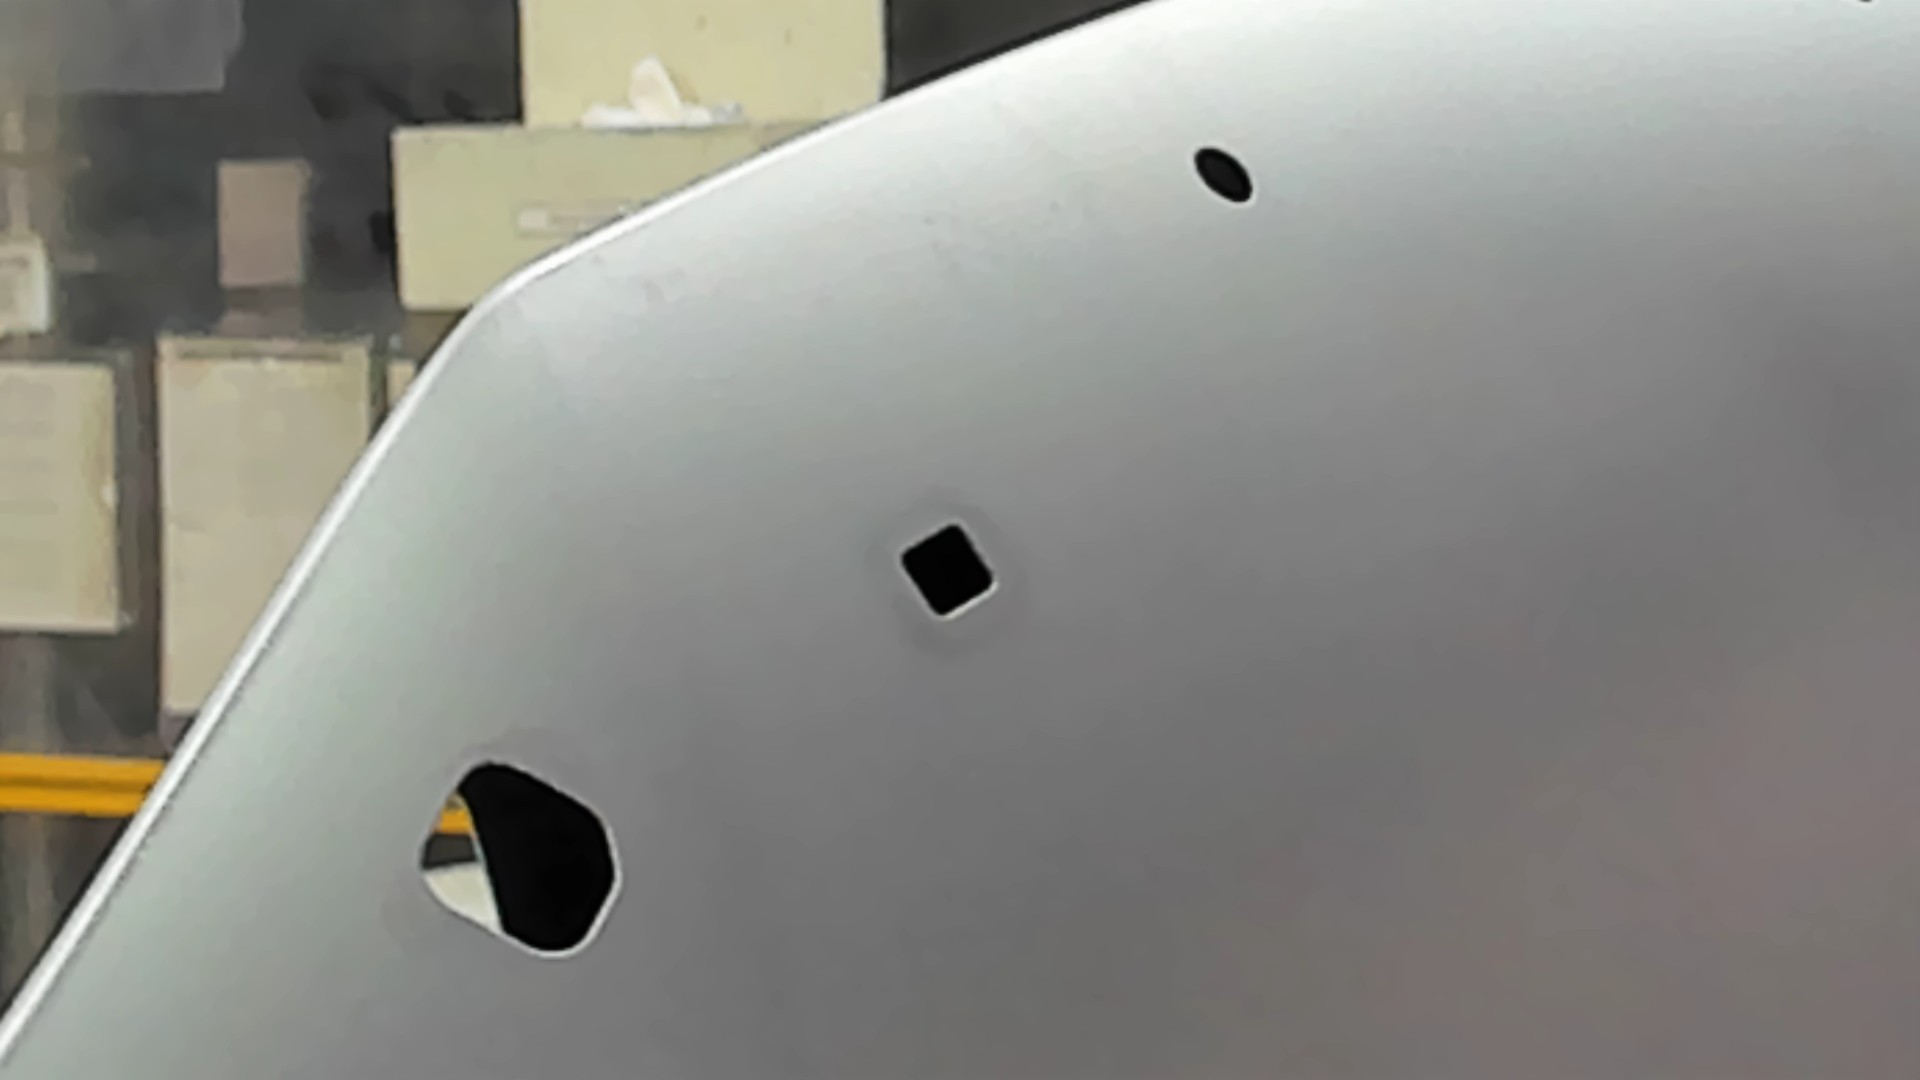chico: (1185, 142, 1261, 208)
grande: (411, 756, 624, 965)
mediano: (891, 516, 1004, 632)
